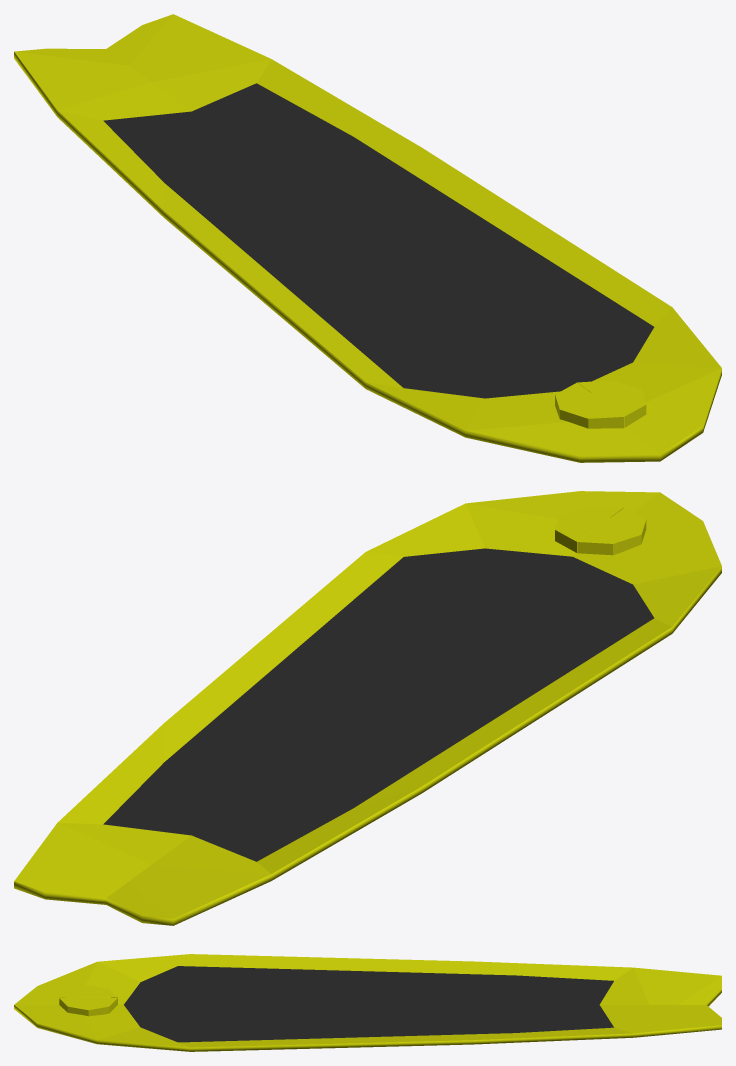
The model's file is board_type_2.fbx.
3 views of the same model, one above another, from view 1: azimuth 30°, elevation 25°; view 2: azimuth 150°, elevation 25°; view 3: azimuth 270°, elevation 25° (orthographic). The views are drawn at different scales.
Parts seen in each view (by area): view 1: Board_Type_2; view 2: Board_Type_2; view 3: Board_Type_2.
Boxes of the visible parts, x1,y1,x2,y2 form: Board_Type_2: (14,14,721,462); Board_Type_2: (14,491,721,925); Board_Type_2: (14,954,721,1051).
Bounding box in the file's own units: 167 × 9.5 × 535.
